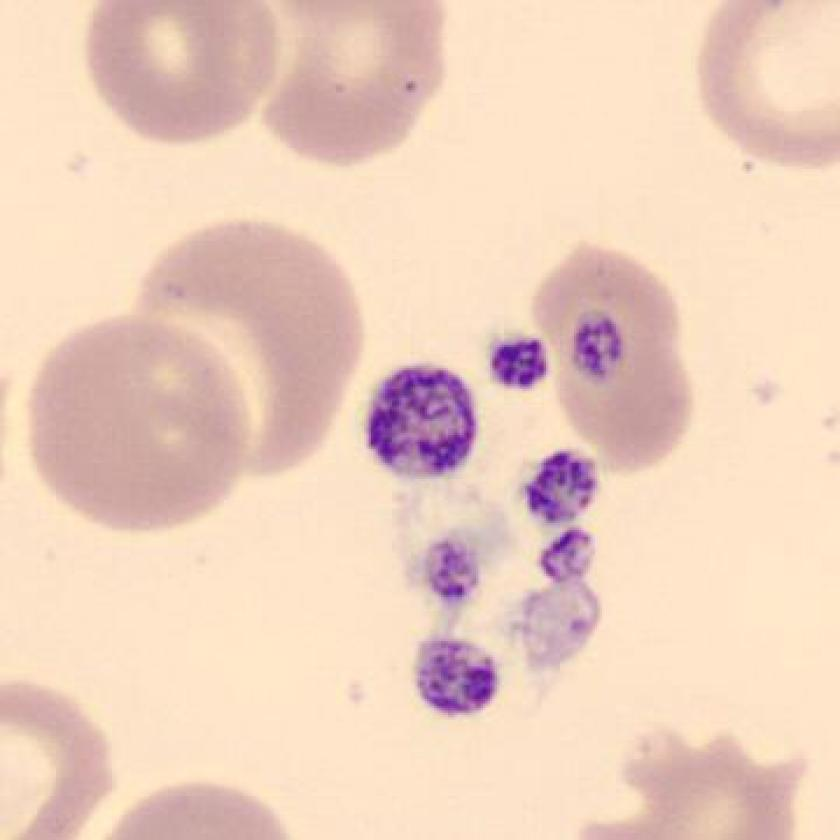platelets: (353, 353, 491, 492), (405, 626, 503, 723), (517, 441, 608, 531), (409, 531, 491, 610), (533, 524, 612, 596), (482, 323, 556, 399), (566, 309, 631, 387)
